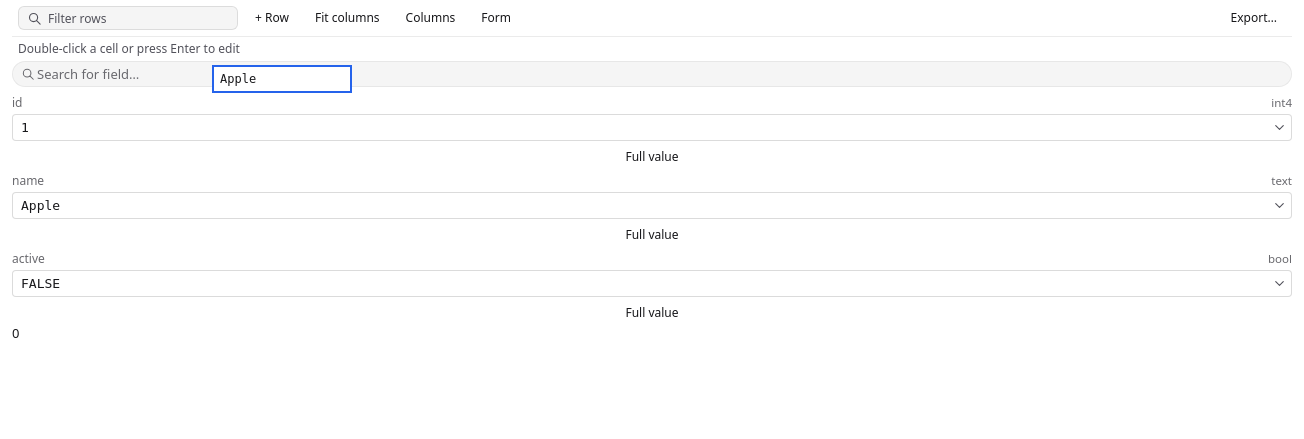
Test: edits the stored key after sorting and keeps a conflict staged
This screenshot has width=1304, height=439.
Expected: the button "+ Row" is enabled, [246,6,298,30]
Replace the text in the field named "Edit name" with "Sorted edit": coordinates (282, 79) [212,65,352,93]
Then press Enter
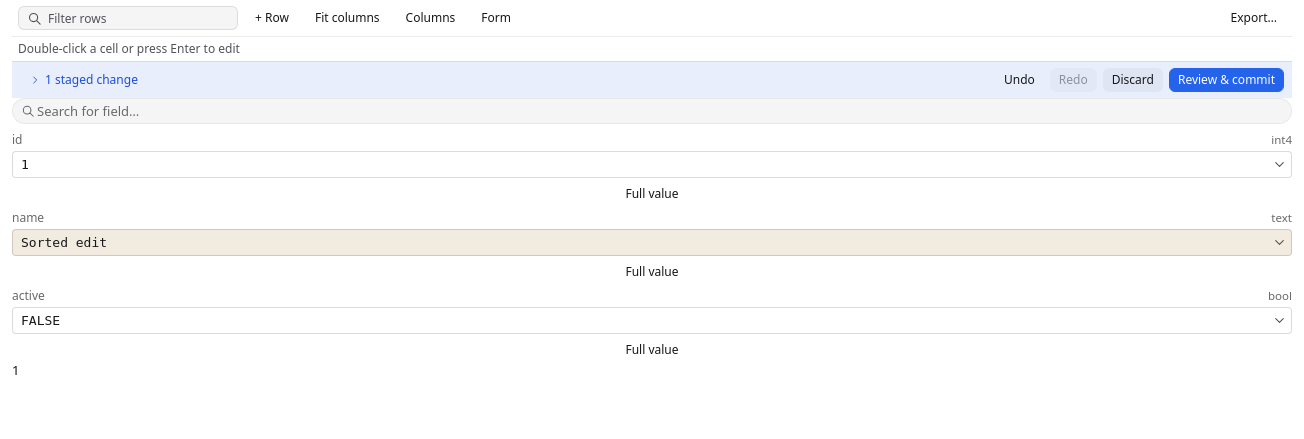
Now the text named "Protected edits" reads "1", box [12,361,19,379]
Click the button "Review & commit": coordinates (1226, 80) [1169,68,1284,92]
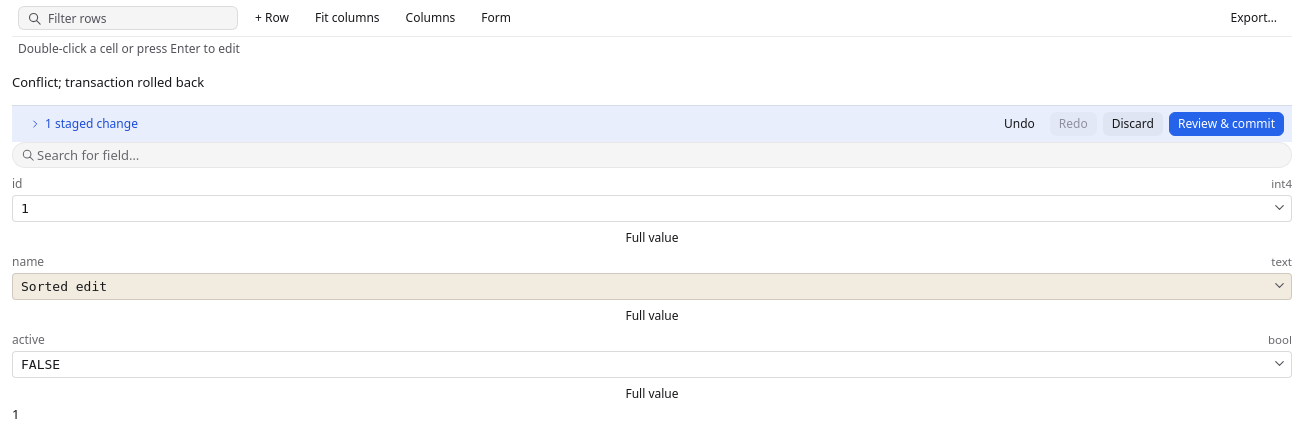
Now the text named "Protected edits" reads "1", box [12,405,19,423]
Now the message "Conflict; transaction rolled back" is shown, box [12,73,204,91]
